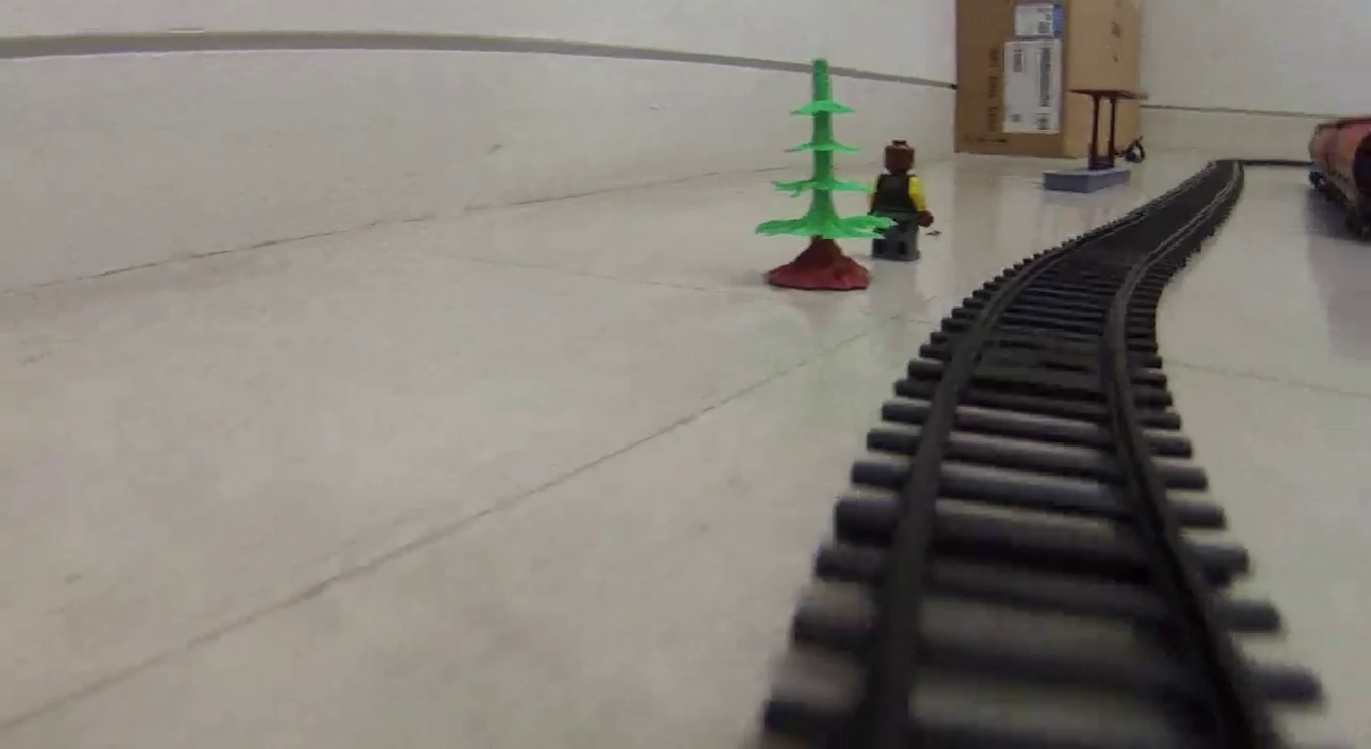people: (869, 139, 929, 263)
tree: (753, 59, 880, 287)
